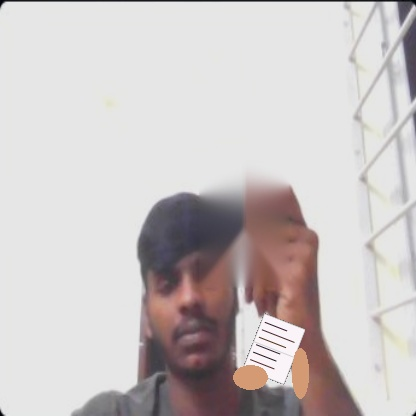cheat_chit: (242, 313, 305, 385)
